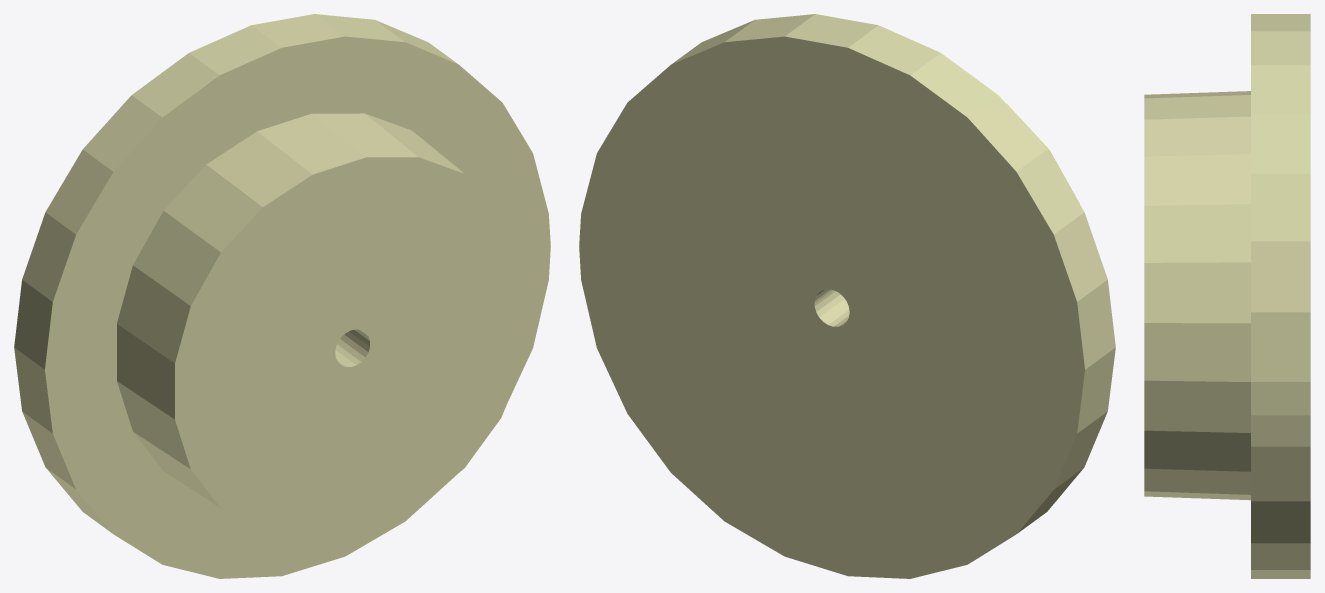
The model's file is fuel_tank_lid.glb.
3 views of the same model, side by side, from view 1: azimuth 30°, elevation 25°; view 2: azimuth 150°, elevation 25°; view 3: azimuth 270°, elevation 25° (orthographic). The views are drawn at different scales.
Parts seen in each view (by area): view 1: Node1; view 2: Node1; view 3: Node1.
Boxes of the visible parts, box(x1,y1,x2,y2) form: Node1: box(14, 14, 550, 578); Node1: box(579, 14, 1115, 578); Node1: box(1144, 14, 1310, 578).
Size of the model in its own units: 19 by 18.96 by 5.57.
